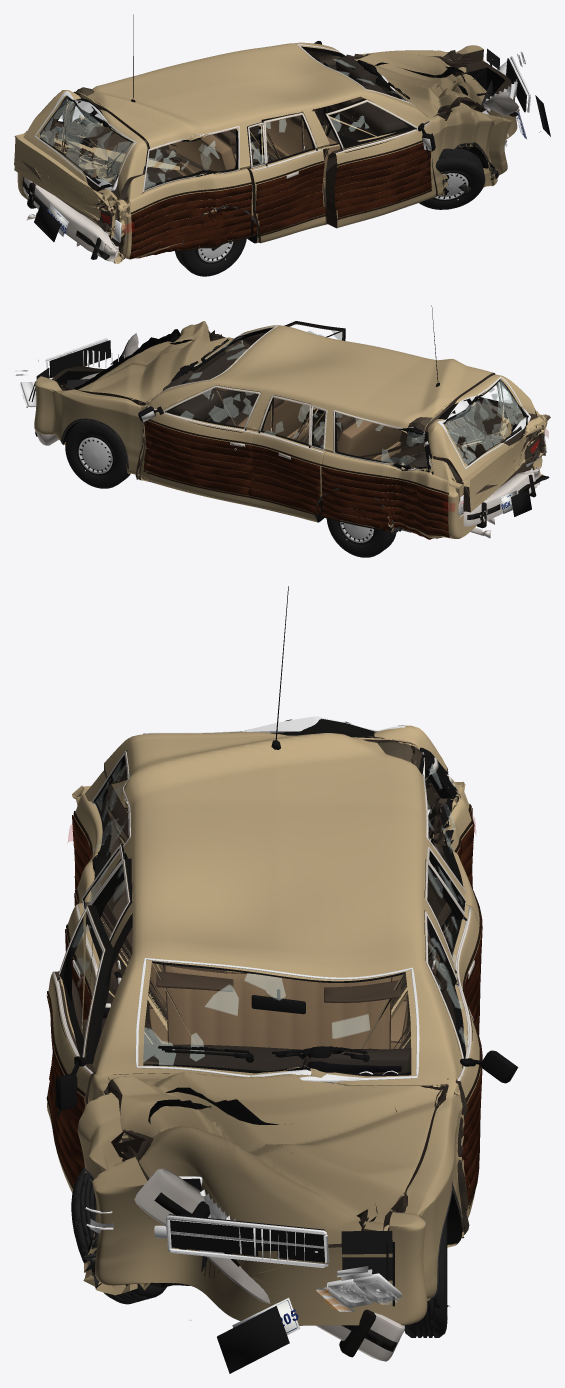
The model's file is wagon82_front_corner_R_d2_lod1.glb.
3 renders of one model, top to bottom at view 1: azimuth 30°, elevation 25°; view 2: azimuth 150°, elevation 25°; view 3: azimuth 270°, elevation 25°, orthographic. The views are drawn at different scales.
Parts seen in each view (by area): view 1: Body, Tailgate, Trim, Interior, Trim_FR, Hood, Trim_RR, Glass_Tailgate, Door_FR, Ends, Door_RR, Bumper_R (+6 smaller); view 2: Body, Trim, Interior, Tailgate, Trim_FL, Hood, Trim_RL, Glass_Tailgate, Wheel_FL_mesh, Door_FL, Ends, Door_RL (+7 smaller); view 3: Body, Hood, Interior, Ends, Glass, Bumper_F, Trim, Door_FR, Trim_FR, Tailgate, Trim_FL, Door_FL (+7 smaller).
Boxes of the visible parts, <box> form: Body: <box>14,42,517,263</box>; Tailgate: <box>14,90,147,238</box>; Trim: <box>76,14,499,258</box>; Interior: <box>63,56,409,199</box>; Trim_FR: <box>326,100,435,219</box>; Hood: <box>352,52,486,117</box>; Trim_RR: <box>248,113,325,236</box>; Glass_Tailgate: <box>34,91,136,190</box>; Door_FR: <box>323,98,435,228</box>; Ends: <box>34,48,550,242</box>; Door_RR: <box>248,112,325,243</box>; Bumper_R: <box>22,177,118,263</box>; Body: <box>34,325,550,538</box>; Trim: <box>61,305,496,539</box>; Interior: <box>163,347,498,479</box>; Tailgate: <box>427,374,546,512</box>; Trim_FL: <box>138,385,260,497</box>; Hood: <box>74,321,232,403</box>; Trim_RL: <box>248,395,327,514</box>; Glass_Tailgate: <box>437,376,530,468</box>; Wheel_FL_mesh: <box>65,420,130,488</box>; Door_FL: <box>139,385,261,505</box>; Ends: <box>14,338,546,516</box>; Door_RL: <box>248,395,326,521</box>; Body: <box>72,733,481,1325</box>; Hood: <box>107,1072,444,1244</box>; Interior: <box>143,963,411,1074</box>; Ends: <box>85,809,430,1373</box>; Glass: <box>92,747,460,1082</box>; Bumper_F: <box>134,1168,404,1361</box>; Trim: <box>72,586,482,1300</box>; Door_FR: <box>47,905,113,1193</box>; Trim_FR: <box>46,907,104,1188</box>; Tailgate: <box>104,718,448,878</box>; Trim_FL: <box>425,911,518,1208</box>; Door_FL: <box>424,910,481,1218</box>.
Bounding box in the file's own units: 4.97 × 2.23 × 2.08.
35 materials, 6 textured.
